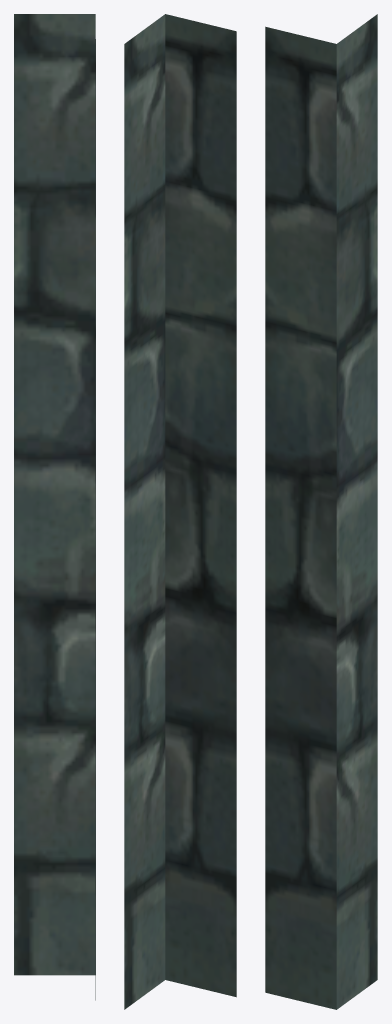
File: crypt_half_convex_02.fbx
3 renders of one model, left to right at view 1: azimuth 90°, elevation 25°; view 2: azimuth 150°, elevation 25°; view 3: azimuth 330°, elevation 25°, orthographic.
Visible parts, largest first — view 1: crypt_tileset/crypt_wall01_tile; view 2: crypt_tileset/crypt_wall01_tile; view 3: crypt_tileset/crypt_wall01_tile.
Boxes of the visible parts, bbox=[...] form: crypt_tileset/crypt_wall01_tile: bbox=[14, 14, 95, 1000]; crypt_tileset/crypt_wall01_tile: bbox=[124, 14, 236, 1009]; crypt_tileset/crypt_wall01_tile: bbox=[265, 14, 377, 1009].
Bounding box in the file's own units: 0.212 × 2.75 × 0.212.
